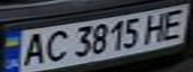1: (106, 17, 127, 52)
3: (72, 24, 93, 58)
5: (121, 15, 148, 48)
8: (90, 20, 112, 55)
A: (18, 29, 51, 68)
C: (39, 27, 72, 63)
E: (157, 7, 193, 42)
H: (139, 10, 172, 44)
